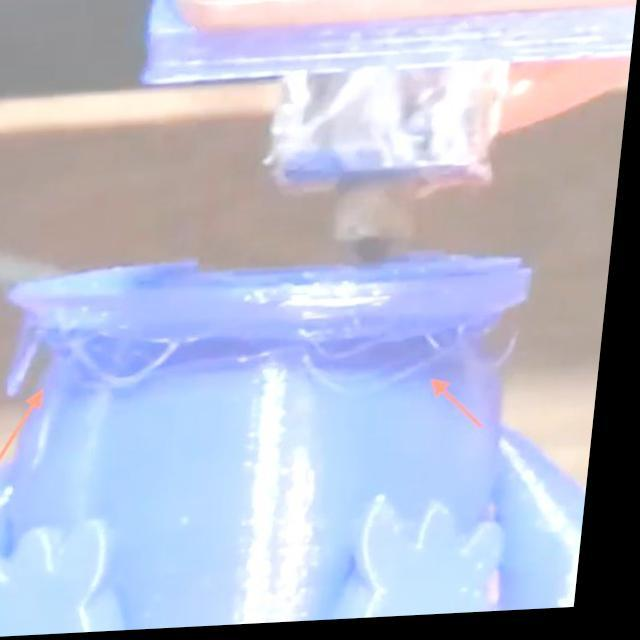spaghetti: (301, 318, 536, 408), (51, 320, 198, 399)
